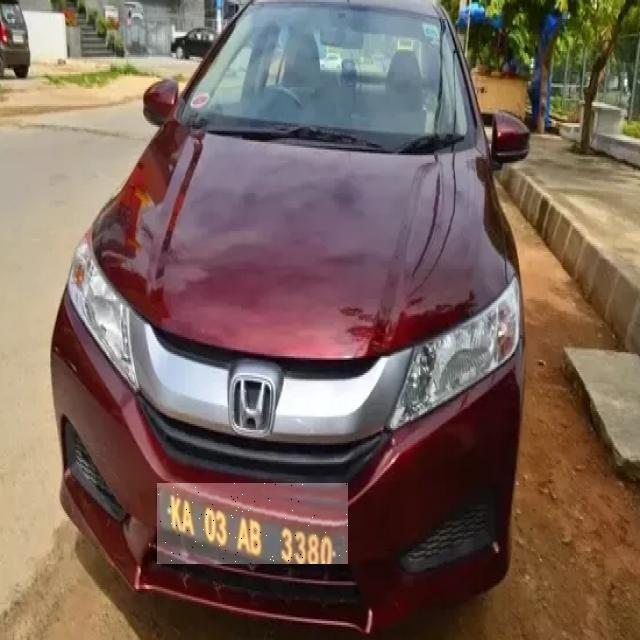Plate: (158, 484, 349, 565)
